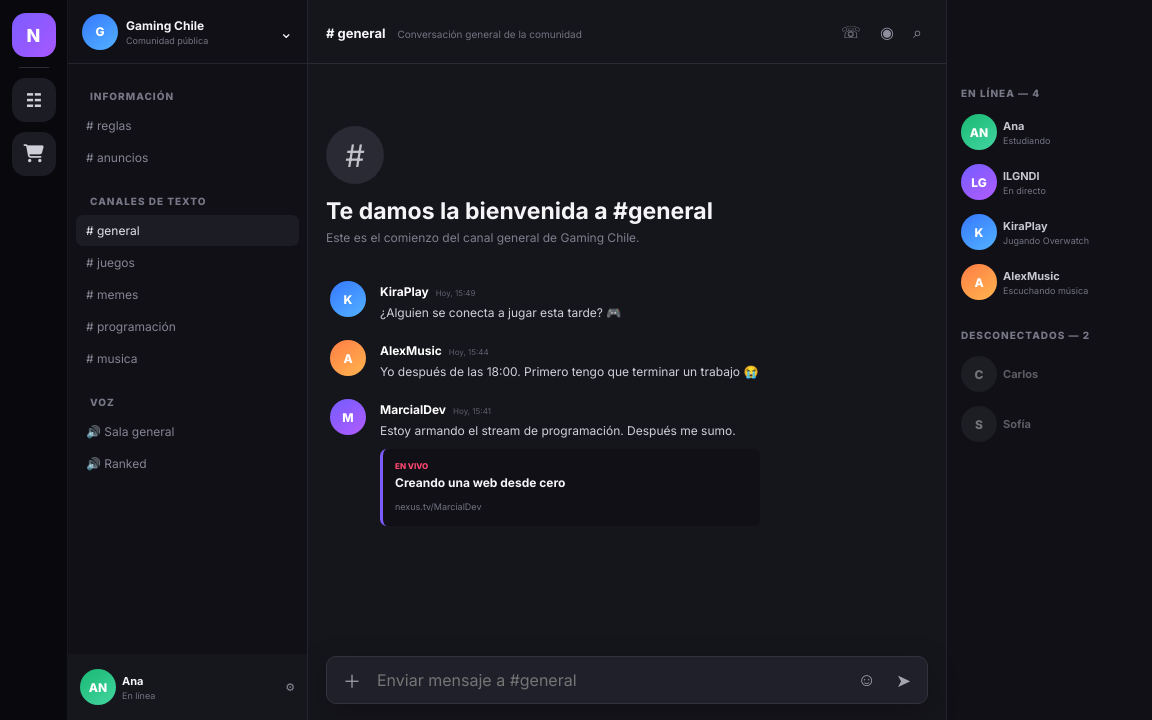
Scenario: Página Comunidad › envía texto seguro, ignora mensajes vacíos y conserva mensajes por canal
Click the button named "Enviar mensaje a la comunidad". click: (903, 680)
box: [890,668,917,692]
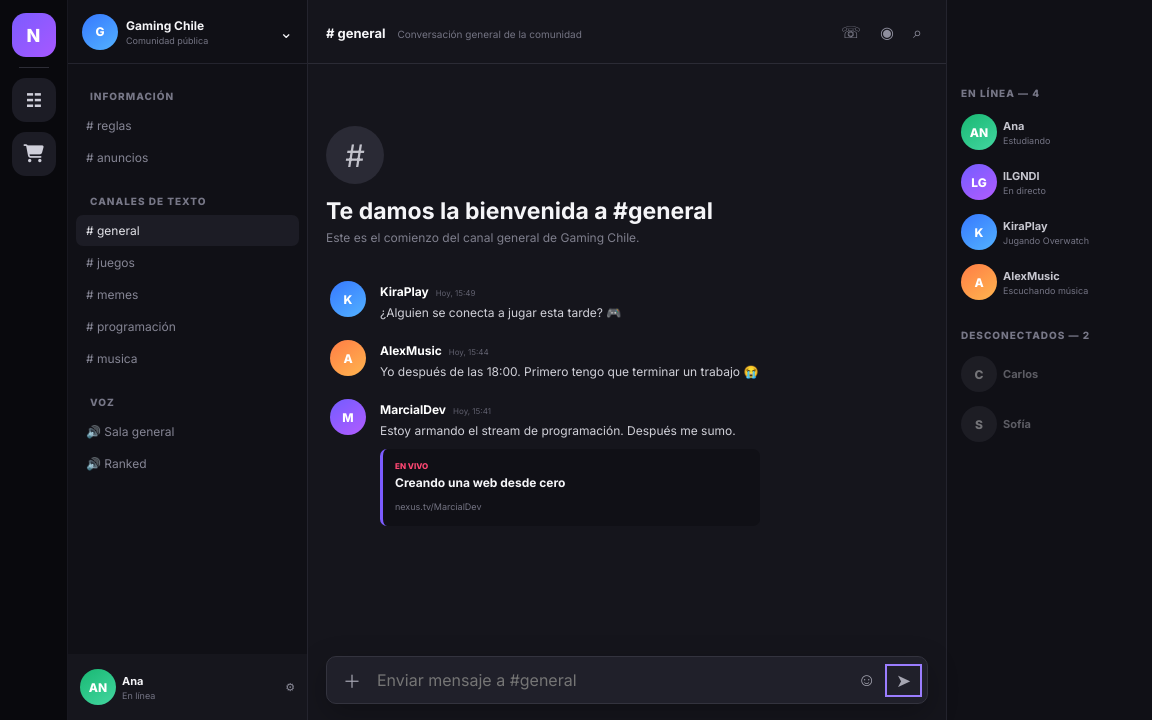
Type "<img src=x onerror=alert(1)>" into the field named "Mensaje para la comunidad". click: (609, 680)
box: [375,669,844,691]
Press Enter
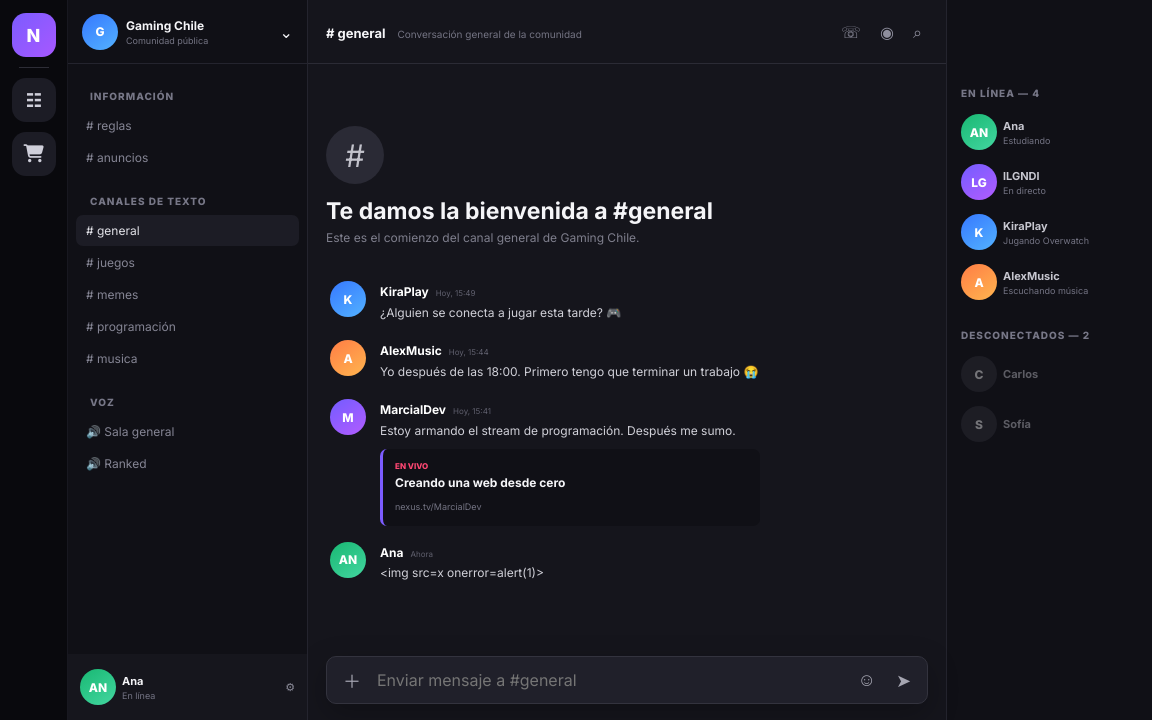
expect the text "<img src=x onerror=alert(1)>" is shown: met, box [380,565,544,580]
expect the field named "Mensaje para la comunidad" is empty: met, box [375,669,844,691]
Click the button "# juegos". click: (188, 262)
box: [76,247,299,278]
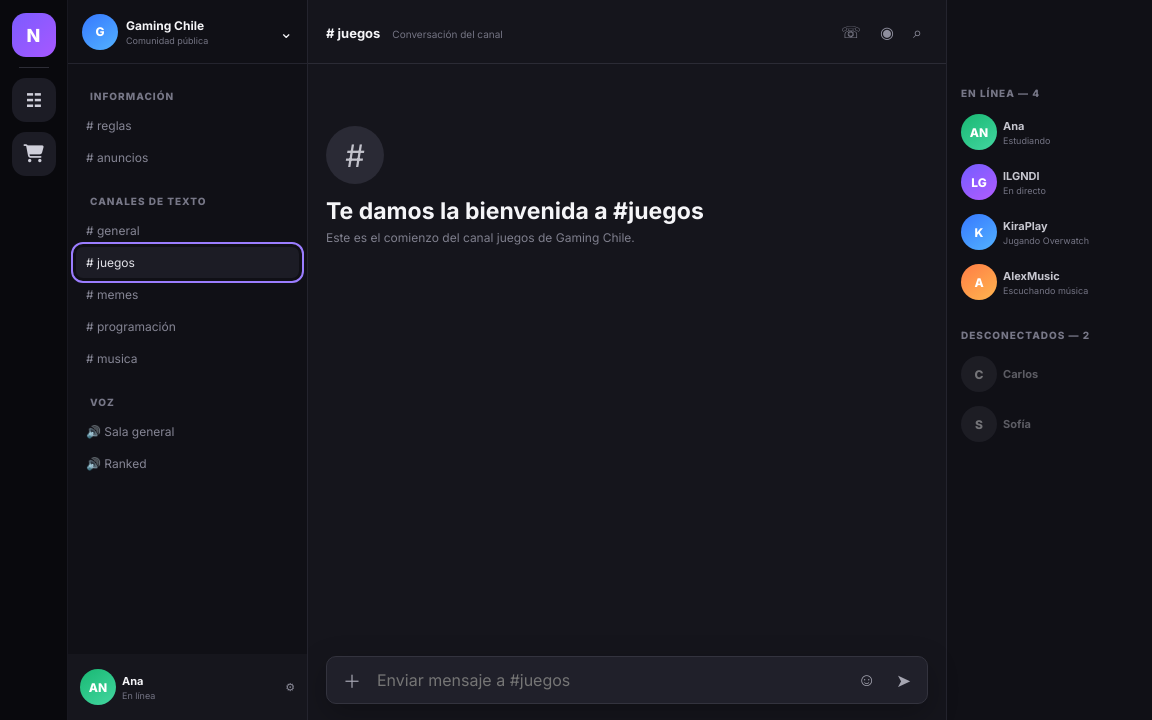
expect the text "<img src=x onerror=alert(1)>" is gone: met
Click the button named "Añadir emoji". click: (867, 680)
box: [852,668,882,692]
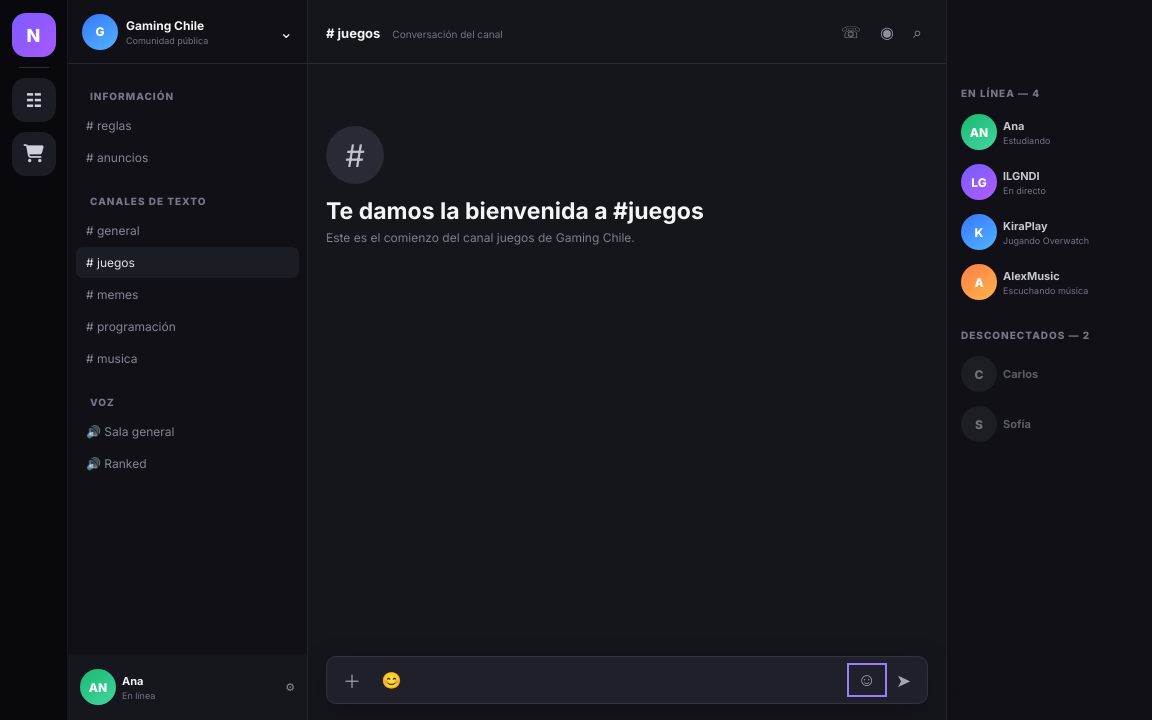
Click the button named "Enviar mensaje a la comunidad". click: (903, 680)
box: [890,668,917,692]
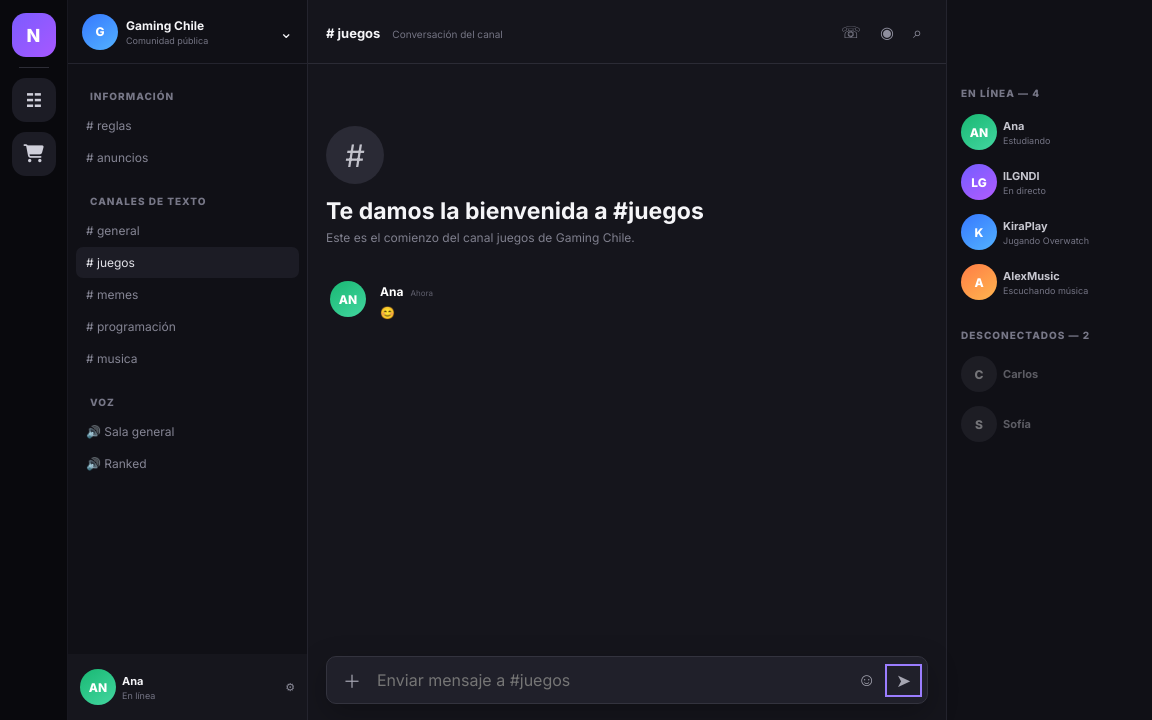
expect the text "😊" is shown: met, box [380,305,395,320]
Click the button "# general". click: (188, 230)
box: [76,215,299,246]
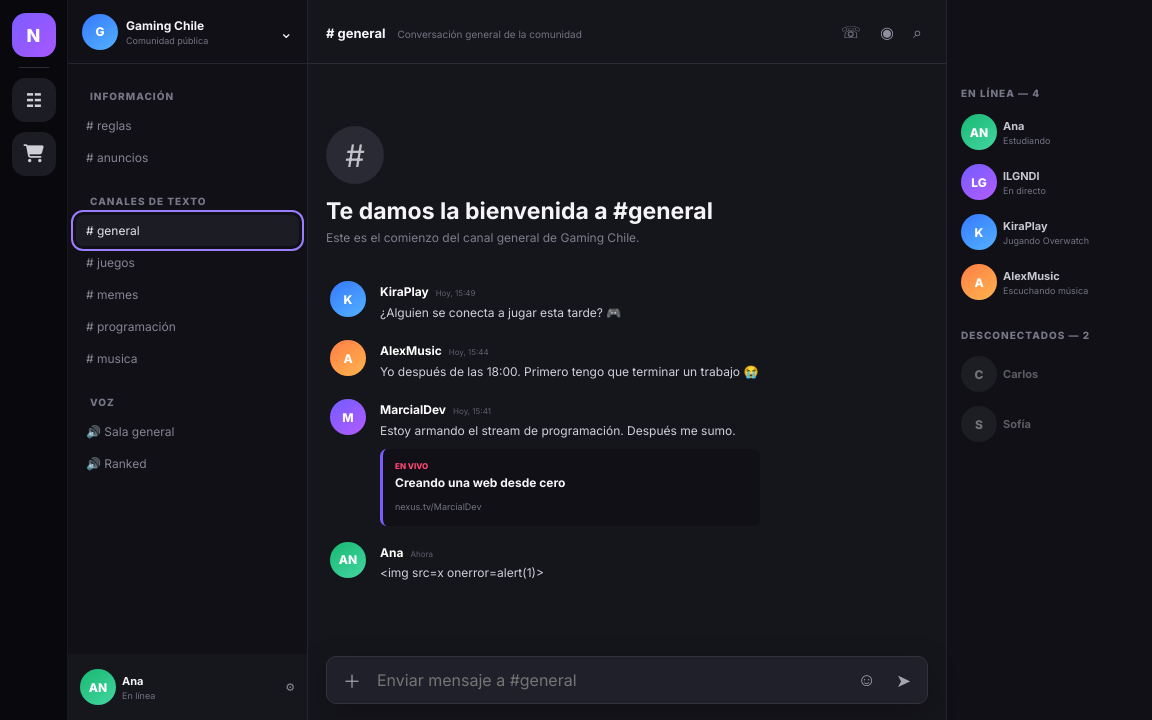
expect the text "<img src=x onerror=alert(1)>" is shown: met, box [380,565,544,580]
